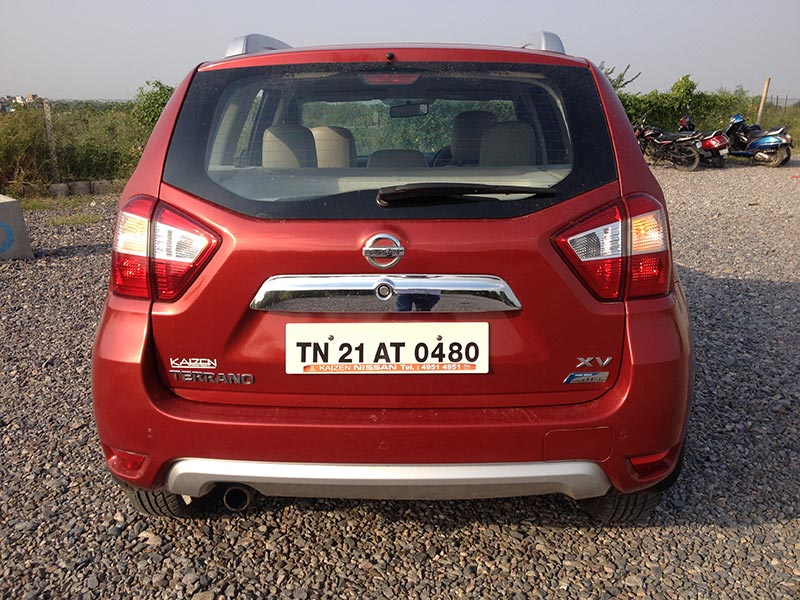number_plate: (274, 305, 505, 382)
